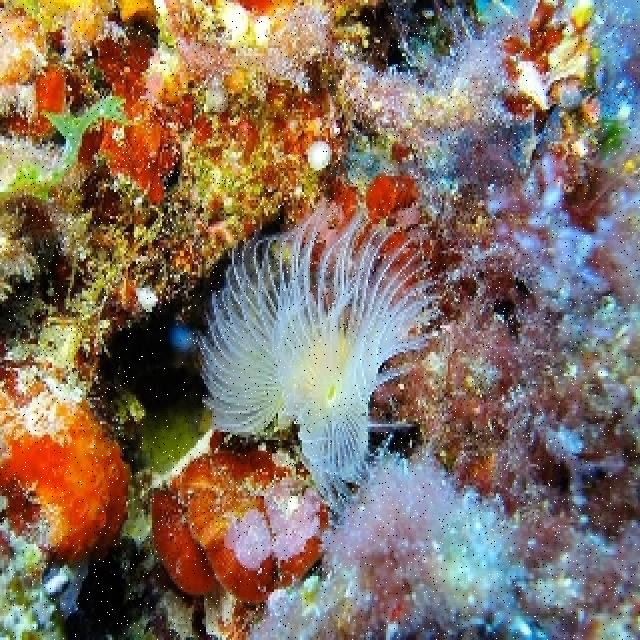reefs: (193, 200, 444, 513), (244, 456, 546, 637)
